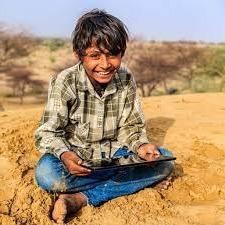Human: (31, 10, 177, 220)
